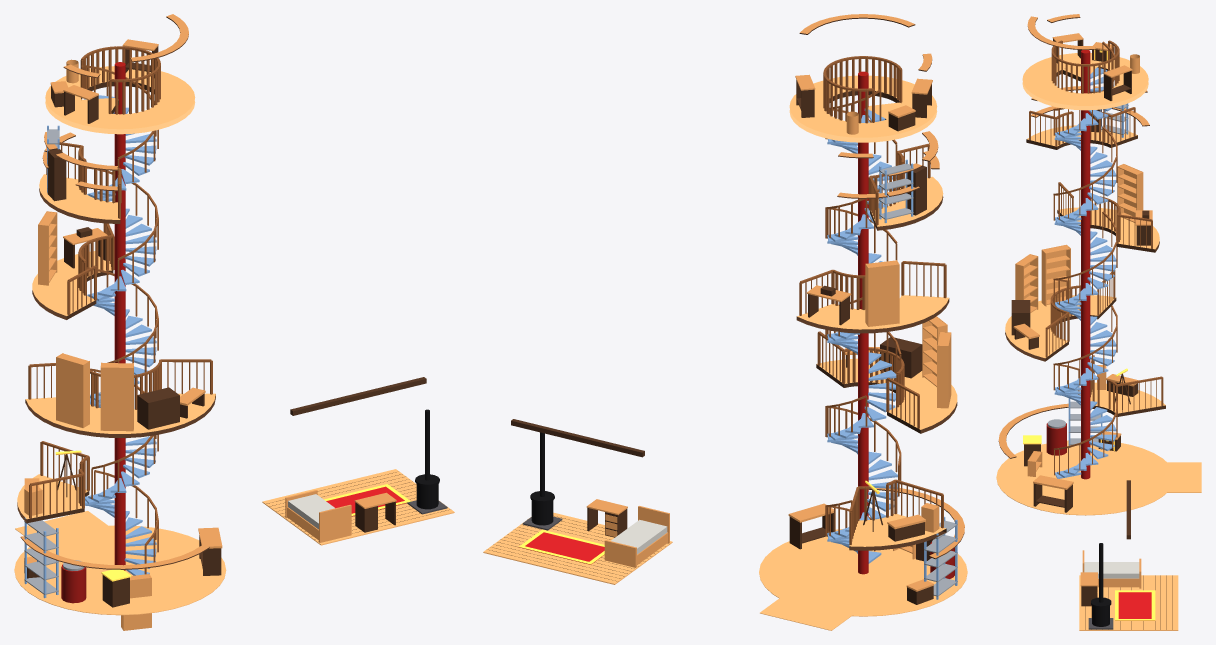
File: SM_Lighthouse_Interior.fbx
3 views of the same model, side by side, from view 1: azimuth 30°, elevation 25°; view 2: azimuth 150°, elevation 25°; view 3: azimuth 270°, elevation 25° (orthographic). The views are drawn at different scales.
Visible parts, largest first — view 1: SM_Lighthouse_Interior; view 2: SM_Lighthouse_Interior; view 3: SM_Lighthouse_Interior.
Part boxes in pixels (left/top/right/bottom): SM_Lighthouse_Interior: left=14, top=14, right=454, bottom=630; SM_Lighthouse_Interior: left=483, top=14, right=967, bottom=630; SM_Lighthouse_Interior: left=996, top=14, right=1201, bottom=630.
Size of the model in its own units: 13.29 by 17.1 by 6.64.
